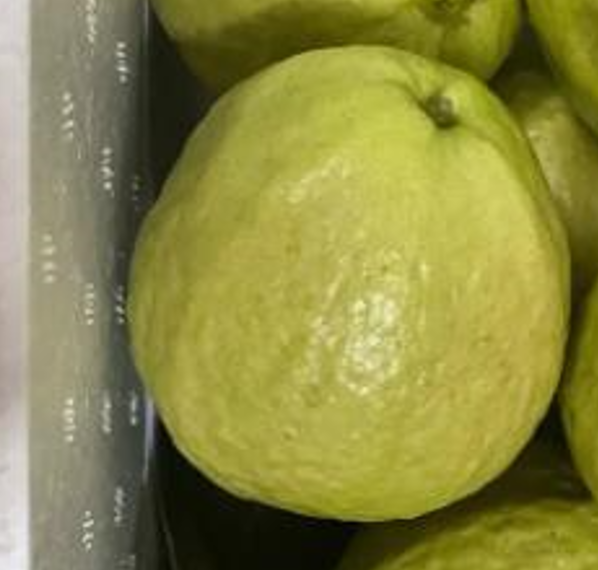guava_A: (128, 44, 572, 521)
